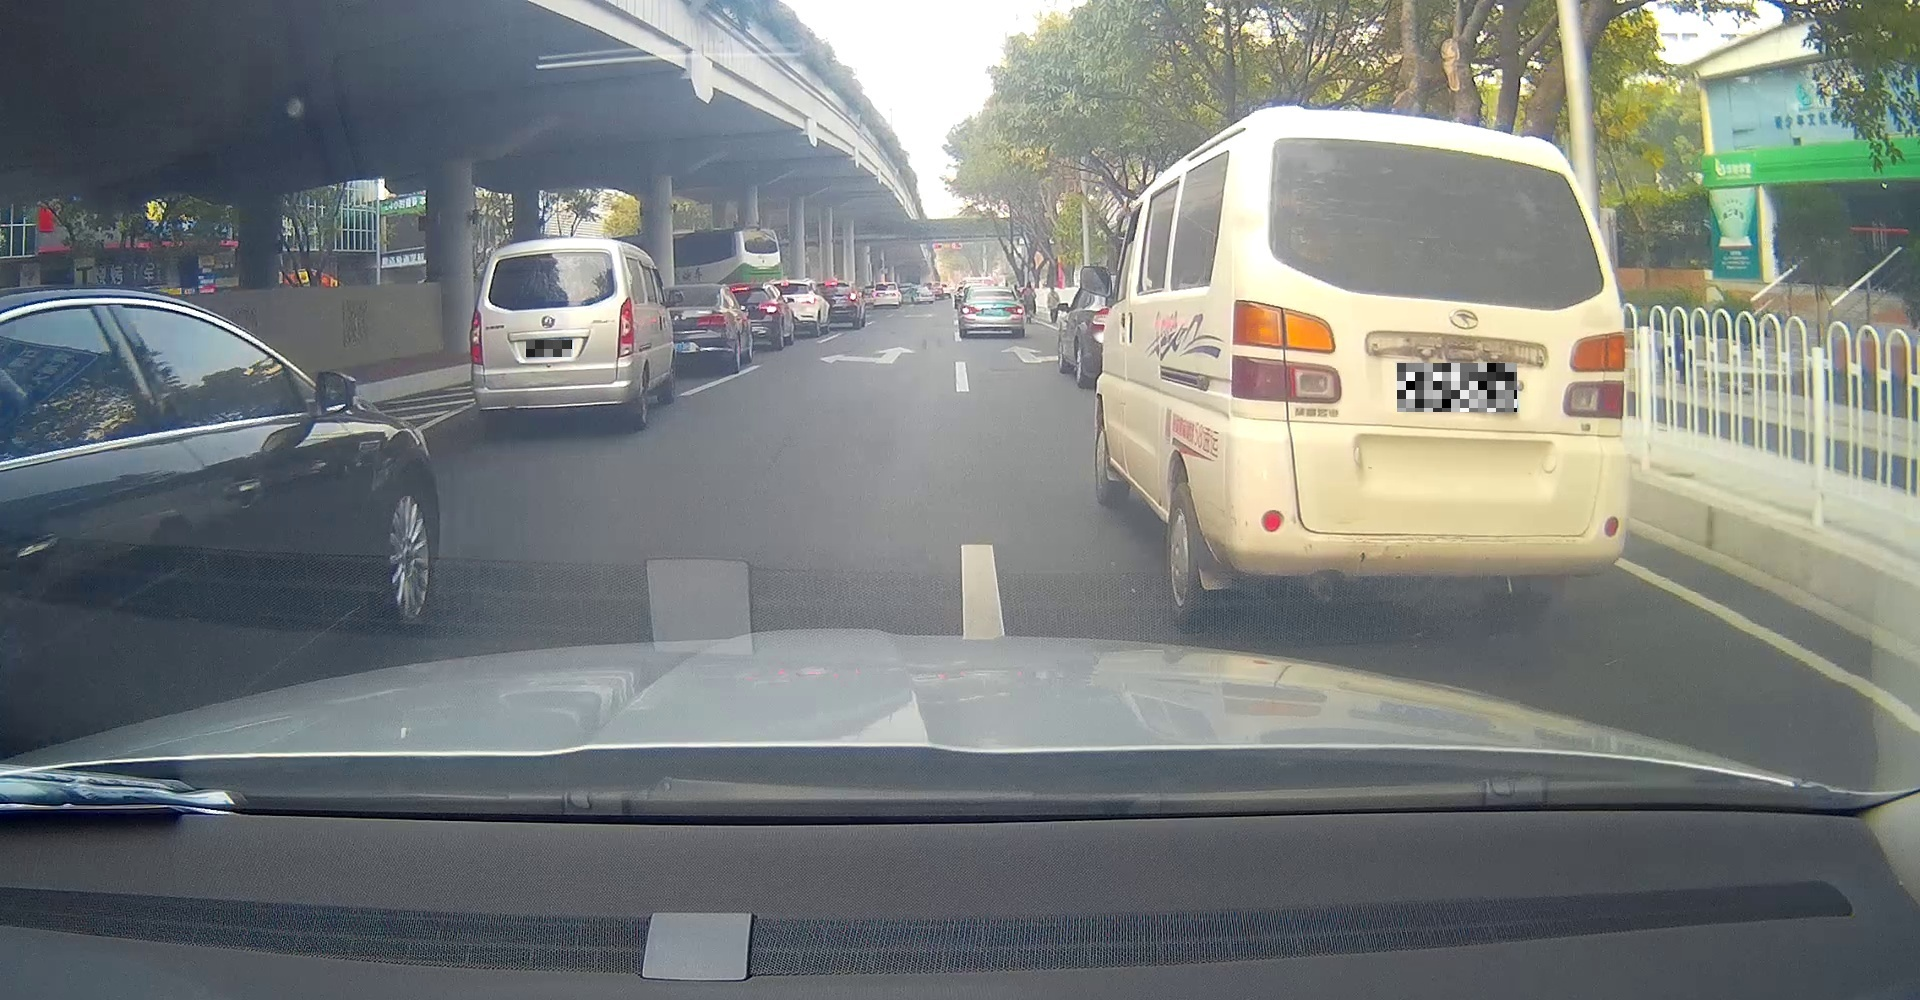L_light: (1230, 299, 1342, 404), (469, 308, 484, 365), (961, 306, 982, 313)
R_light: (1563, 331, 1625, 419), (617, 296, 634, 358), (1004, 306, 1023, 313)
T_light: (1404, 136, 1469, 150), (987, 287, 999, 289)
day-no: (1227, 107, 1628, 633), (469, 239, 636, 437), (961, 286, 1025, 339)
plate_1: (526, 340, 571, 357)
plate_2: (1397, 363, 1517, 412)
